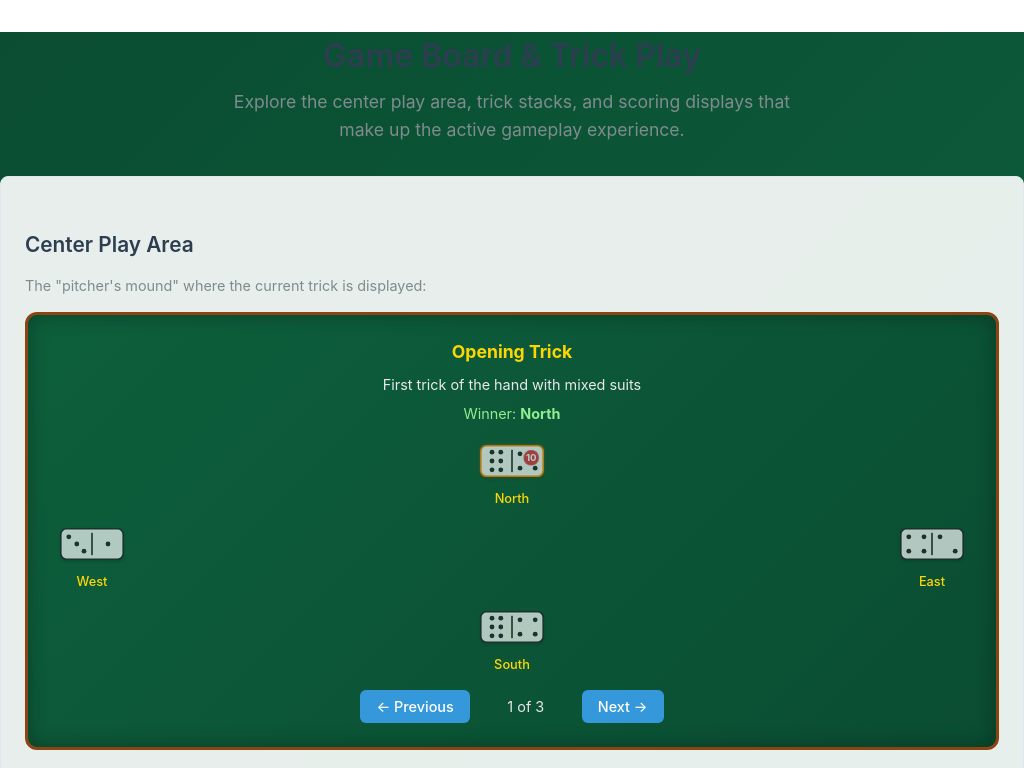
Scenario: GameBoardSection - Trick Cycling › wraps around when cycling before the first trick
Initially on first trick, click previous to wrap to last
Click the button with test id "prev-trick-button" at (415, 707), box 360,690 -> 470,723
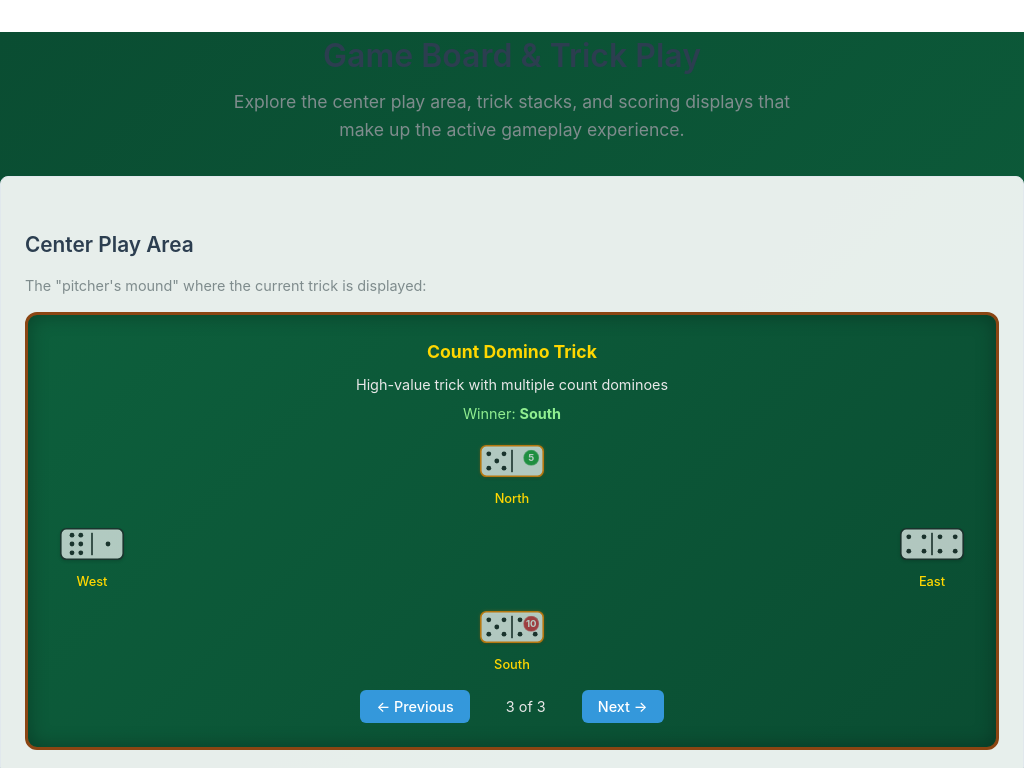
Check: the heading "Count Domino Trick" is shown, box 427,341 -> 597,362
Check: the text "3 of 3" is shown, box 506,698 -> 546,715
